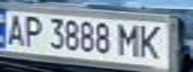3: (42, 16, 66, 51)
8: (93, 19, 115, 55), (60, 17, 81, 52), (78, 18, 96, 53)
A: (0, 11, 27, 47)
K: (133, 21, 169, 60)
M: (115, 20, 145, 57)
P: (18, 12, 45, 47)
